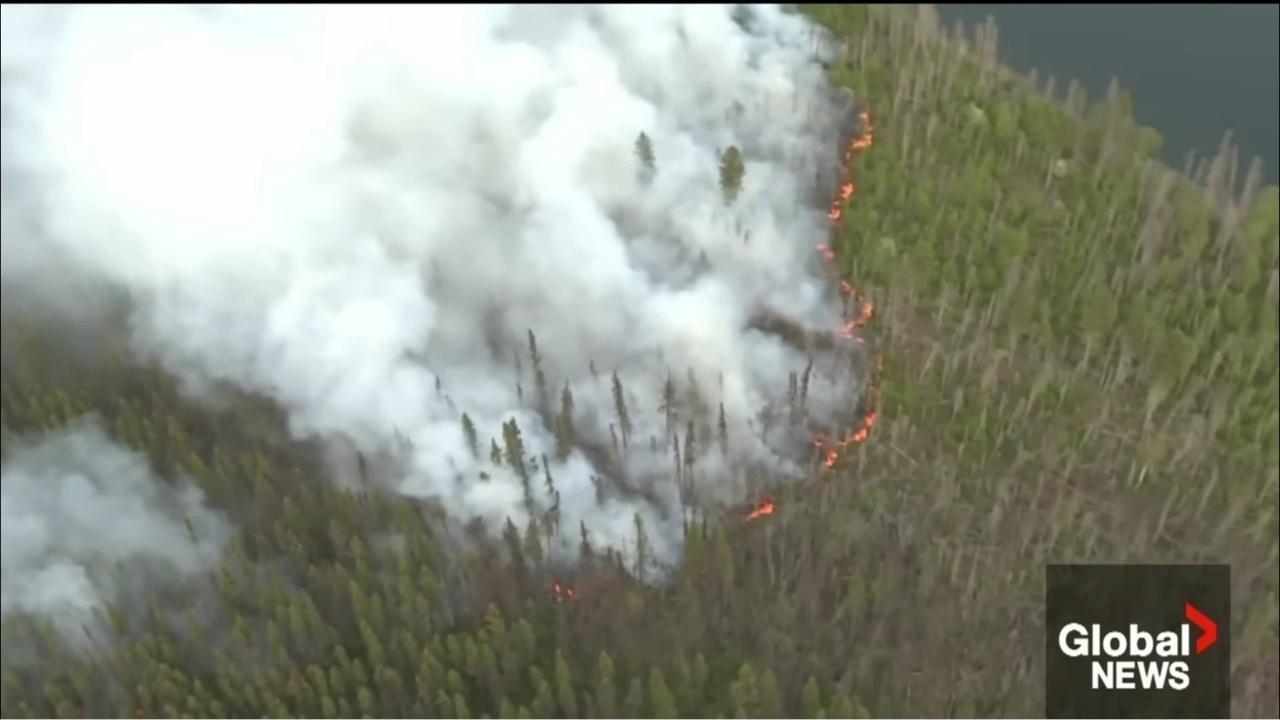fire: (814, 105, 877, 347), (814, 403, 882, 476), (731, 496, 777, 527), (551, 579, 563, 598), (566, 585, 578, 600)
smoke: (0, 4, 869, 589), (0, 408, 246, 670)
